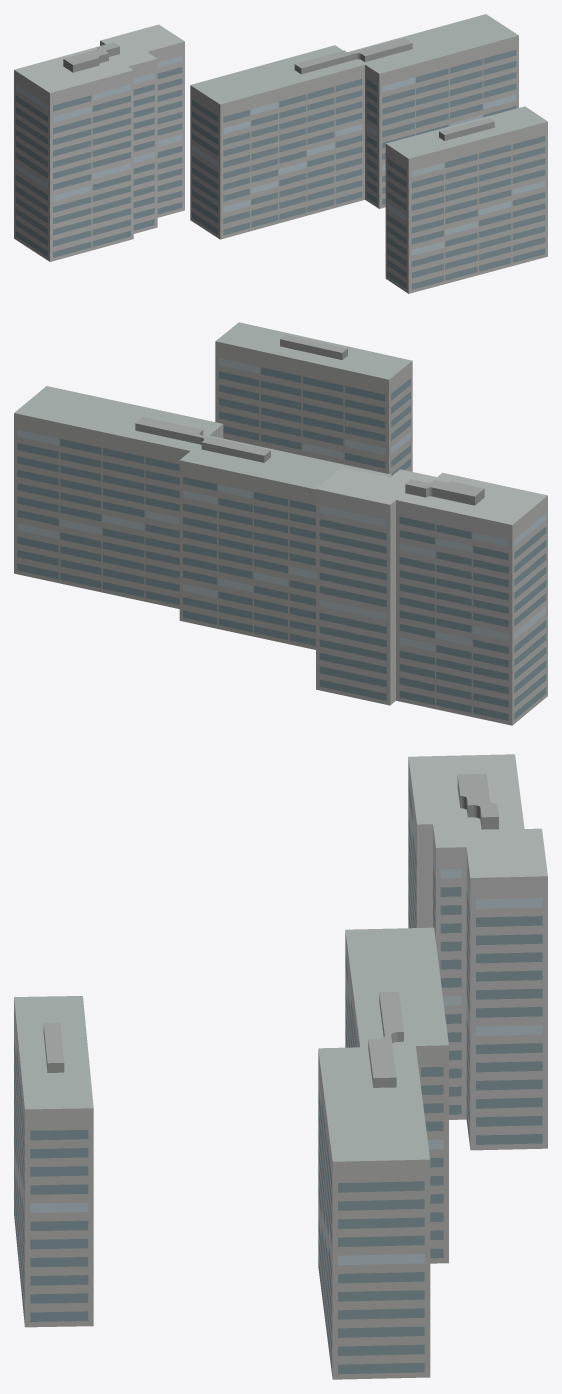
The model's file is apt-a13382502.glb.
3 views of the same model, one above another, from view 1: azimuth 30°, elevation 25°; view 2: azimuth 150°, elevation 25°; view 3: azimuth 270°, elevation 25° (orthographic). The views are drawn at different scales.
Parts seen in each view (by area): view 1: apt-a13382502; view 2: apt-a13382502; view 3: apt-a13382502.
Part boxes in pixels (bbox=[...]): apt-a13382502: bbox=[14, 14, 547, 293]; apt-a13382502: bbox=[14, 322, 547, 725]; apt-a13382502: bbox=[14, 754, 547, 1379].
Size of the model in its own units: 127 by 47.81 by 81.29.
